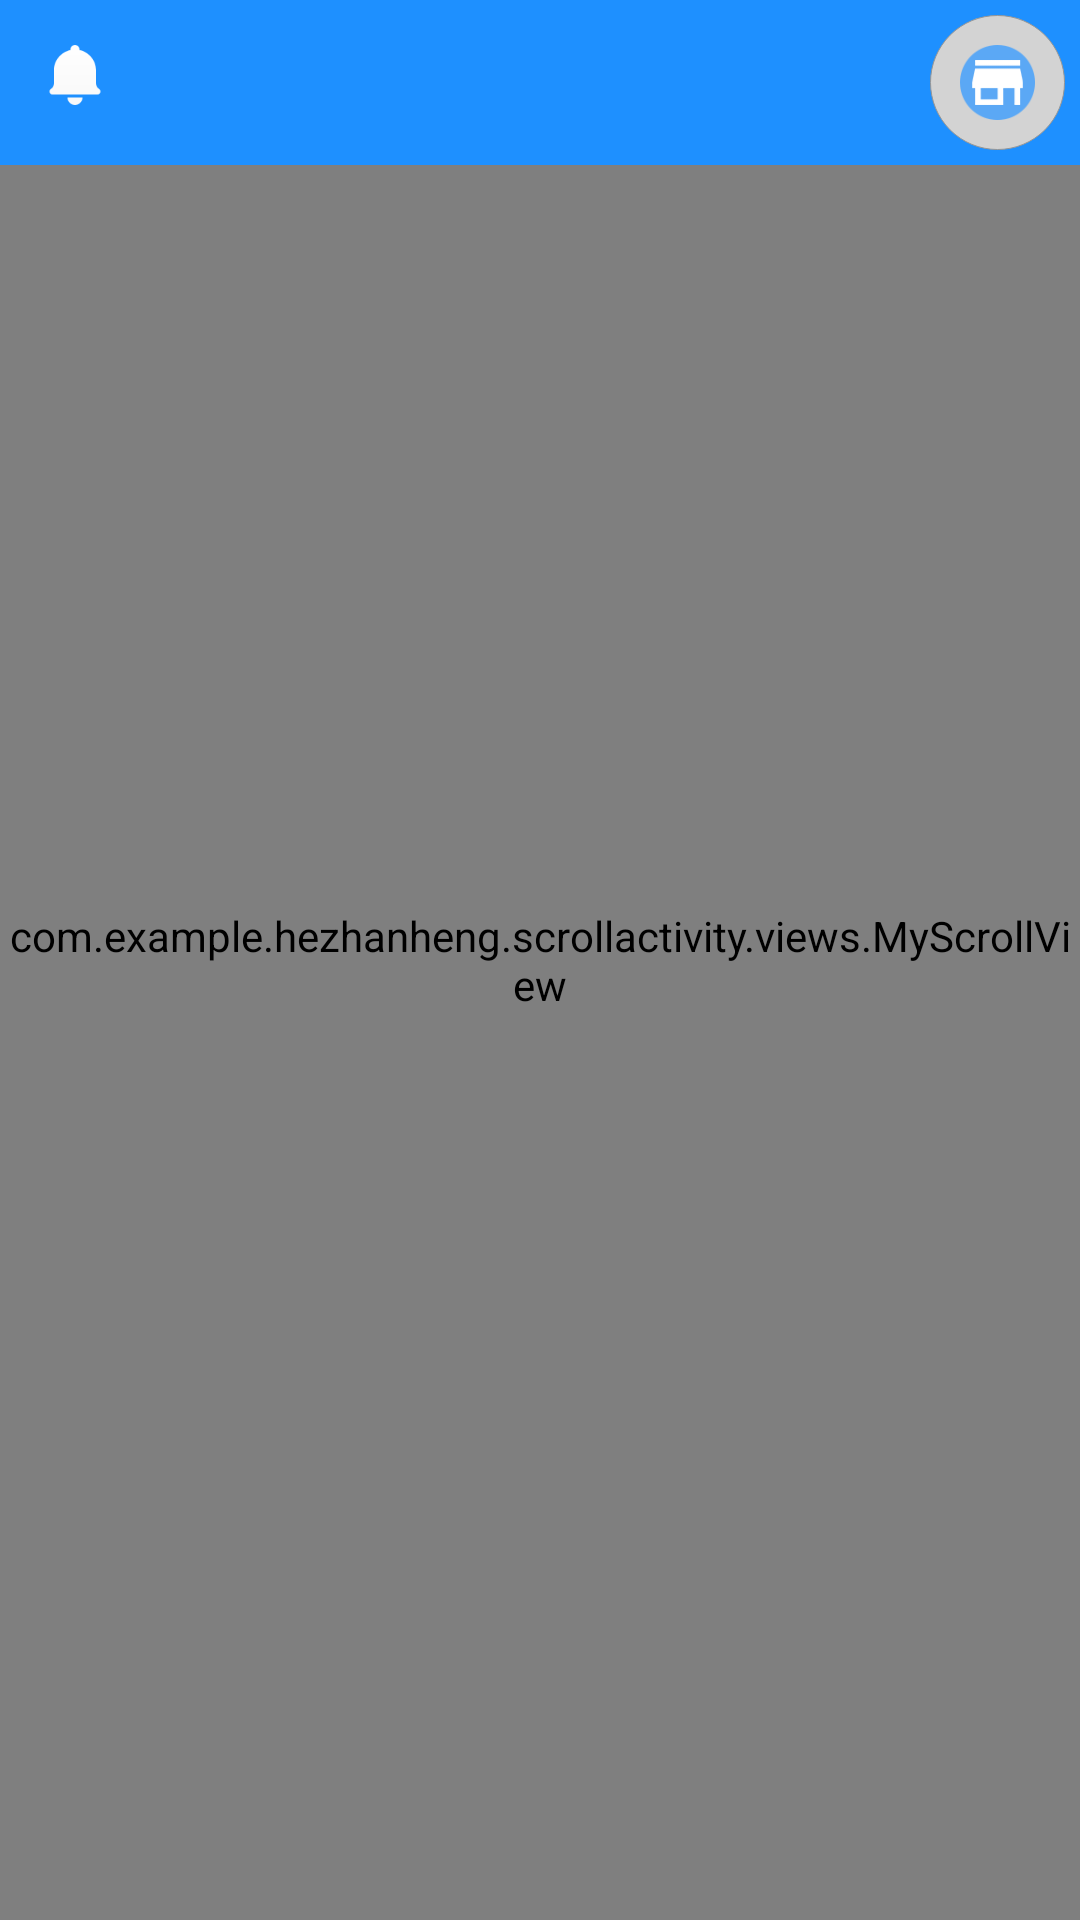

Locate icon controls on the screen. Image size 1080 x 1920, boxes as (x1, y1, x2, y2).
firstpage title message: (49, 45, 101, 105)
